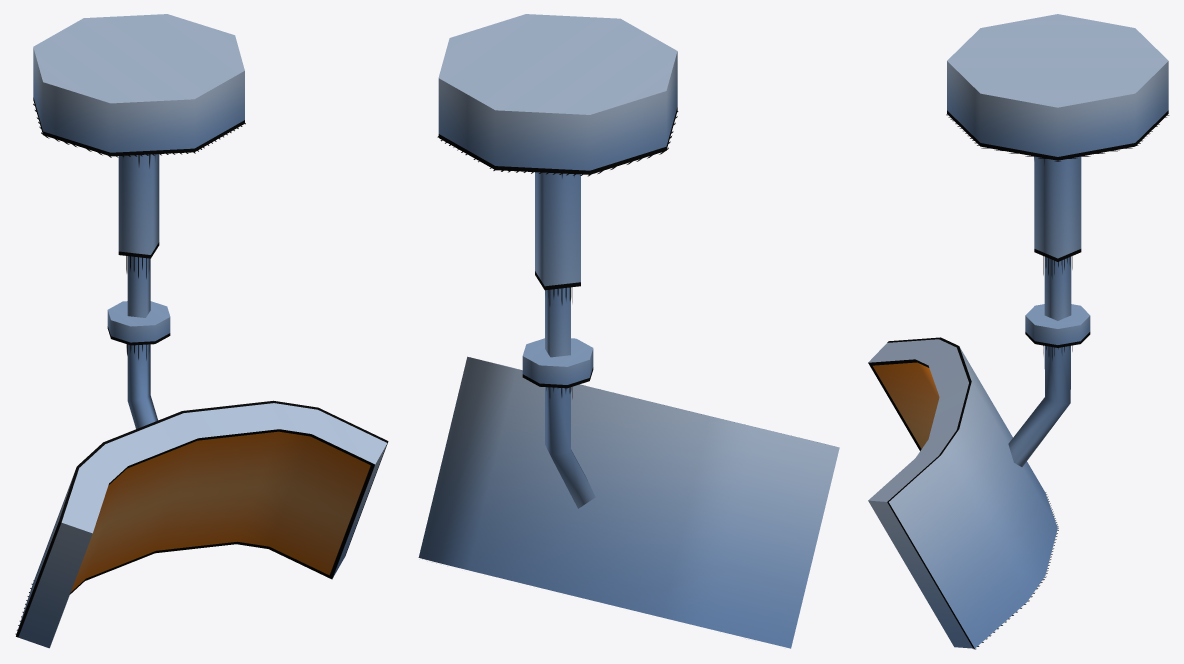
Rendered from linksMareRelay.de4b176d.glb.
3 views of the same model, side by side, from view 1: azimuth 30°, elevation 25°; view 2: azimuth 150°, elevation 25°; view 3: azimuth 270°, elevation 25° (orthographic). The views are drawn at different scales.
Parts seen in each view (by area): view 1: SciFi_Antenna; view 2: SciFi_Antenna; view 3: SciFi_Antenna.
Boxes of the visible parts, left/top/right/bottom form: SciFi_Antenna: left=15, top=14, right=388, bottom=648; SciFi_Antenna: left=418, top=14, right=839, bottom=648; SciFi_Antenna: left=868, top=14, right=1169, bottom=649.
Size of the model in its own units: 0.9419 by 1.41 by 0.742.
2 materials, 2 textured.
